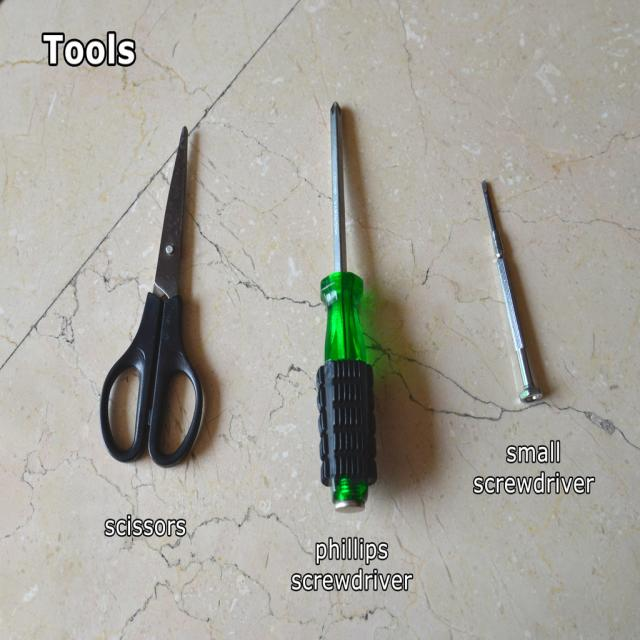scissors: (99, 124, 204, 467)
